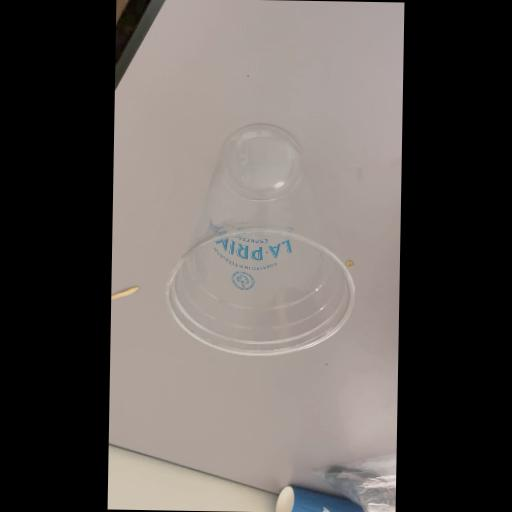lp_plastic_cup: (164, 121, 362, 363)
